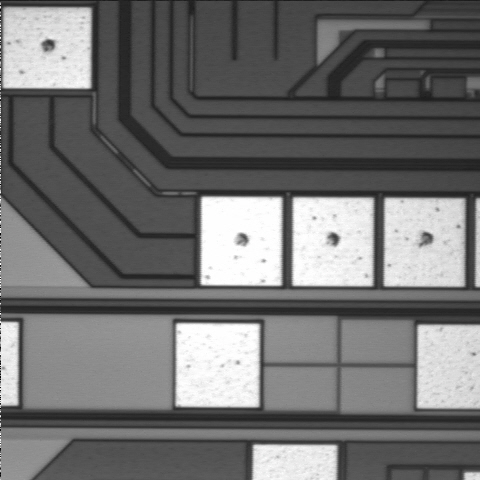pad: (201, 197, 282, 286), (292, 197, 373, 286), (384, 198, 465, 287), (3, 8, 91, 89), (176, 323, 260, 407)
